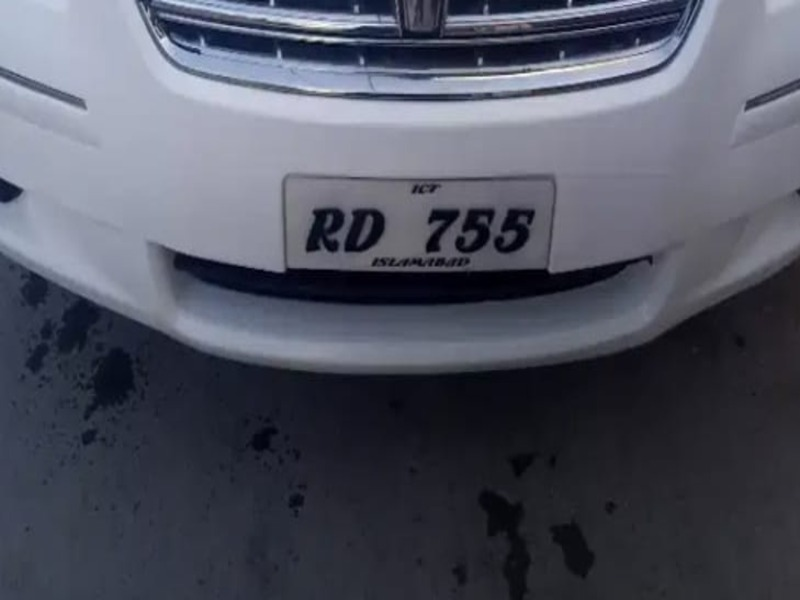License Plate: (275, 165, 560, 282)
